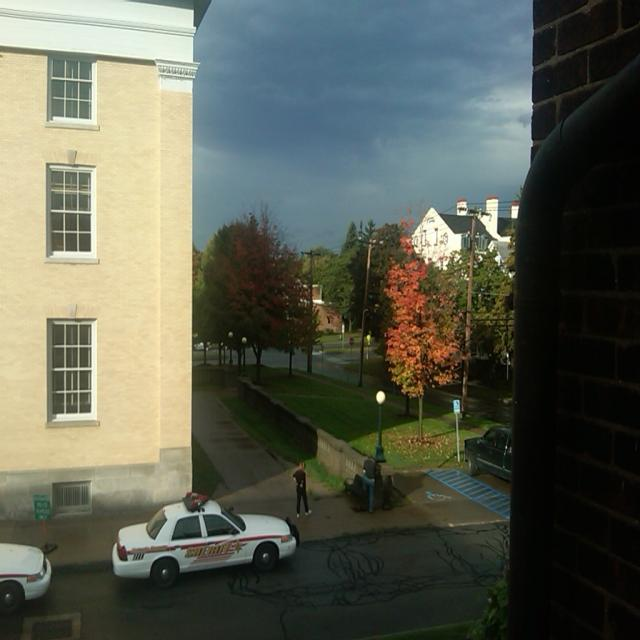car: (113, 485, 296, 593)
